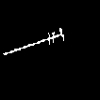treble_crochet: (3, 28, 63, 54)
